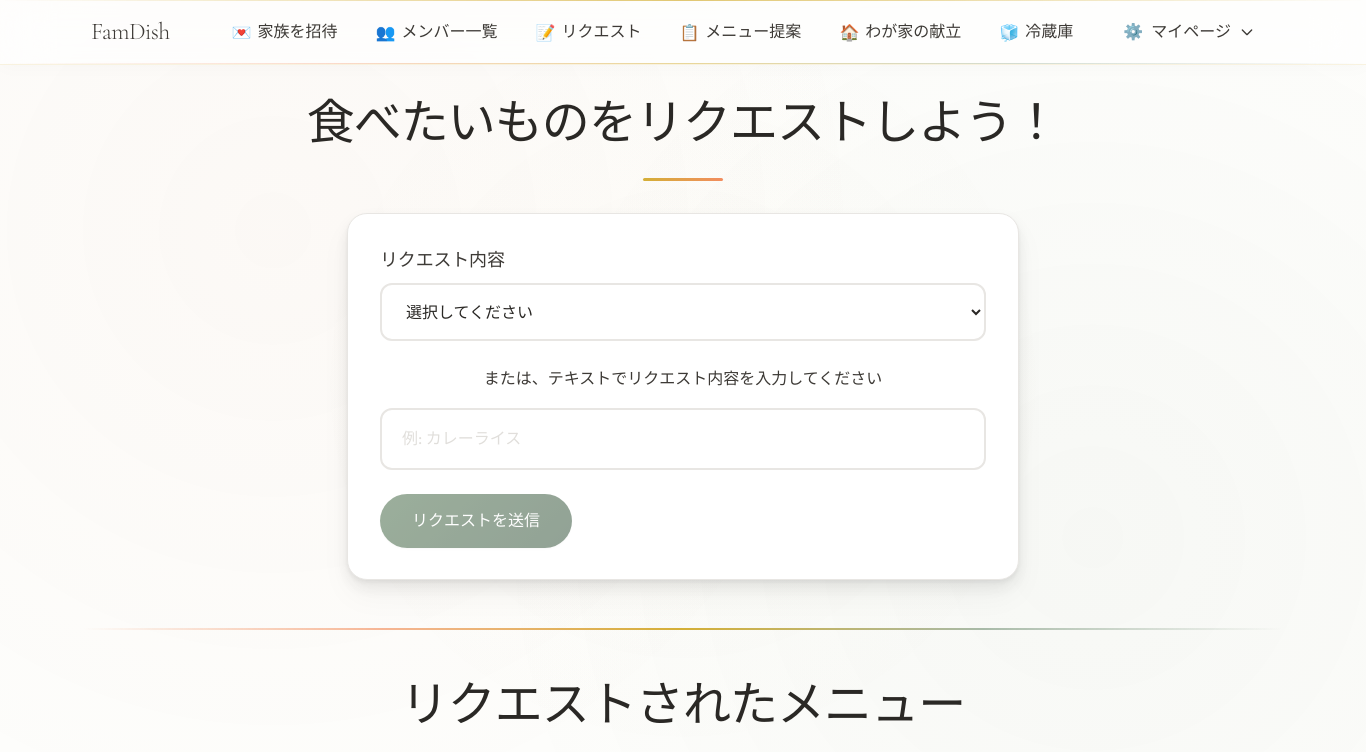
RequestPage › 作成成功時にメッセージを表示する
Type "唐揚げ" into the field with placeholder "例: カレーライス" at (683, 438), box [380,408,986,469]
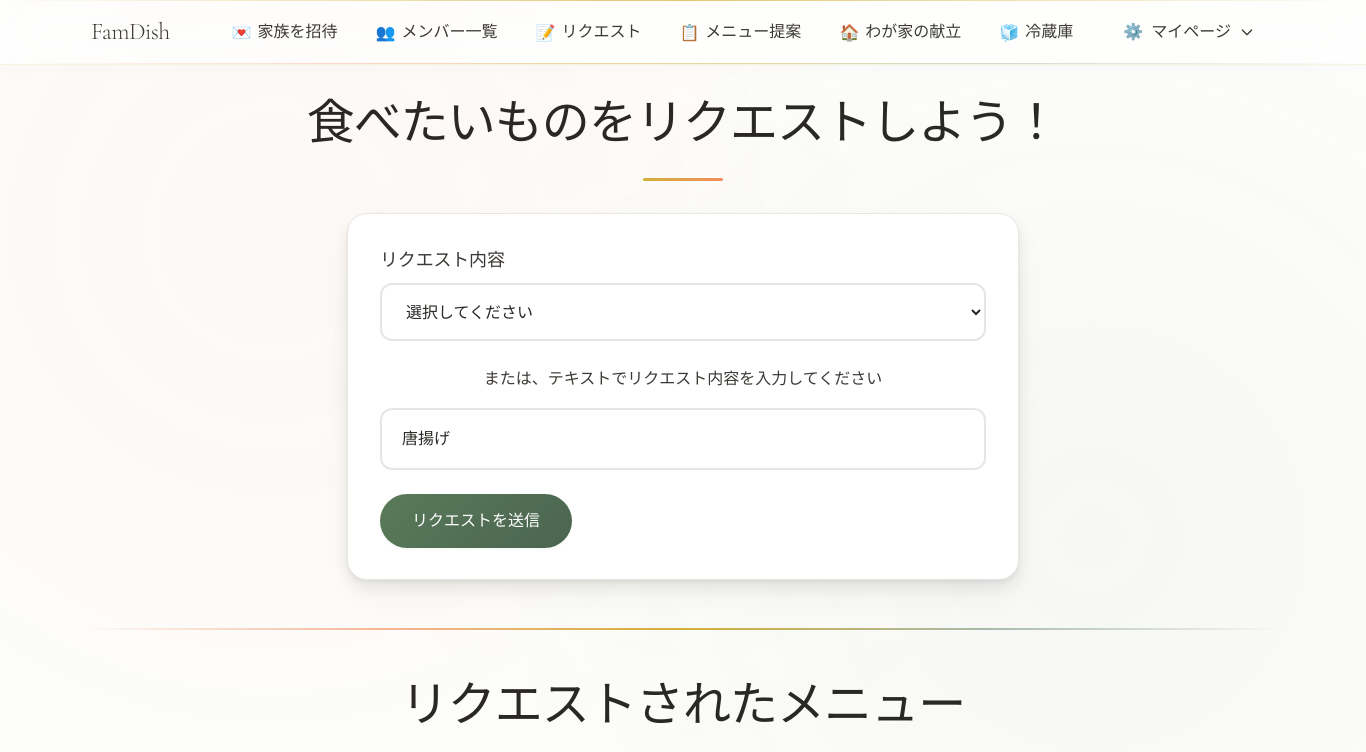
Click the button "リクエストを送信" at (476, 520), box [380,493,572,547]
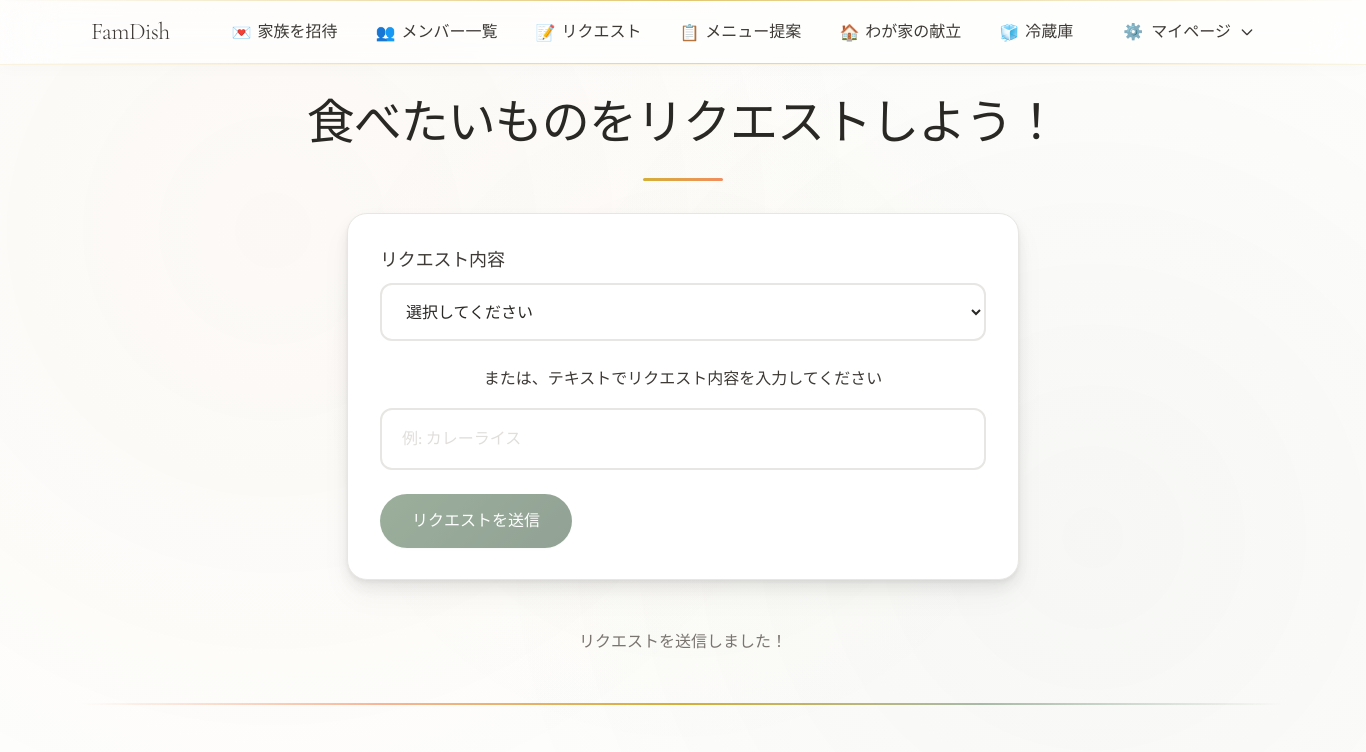
Expected: the text "リクエストを送信しました！" is shown, [579,631,787,651]
